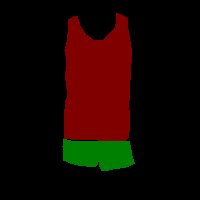abbigliamento: (63, 12, 132, 141)
mutande: (62, 138, 135, 171)
